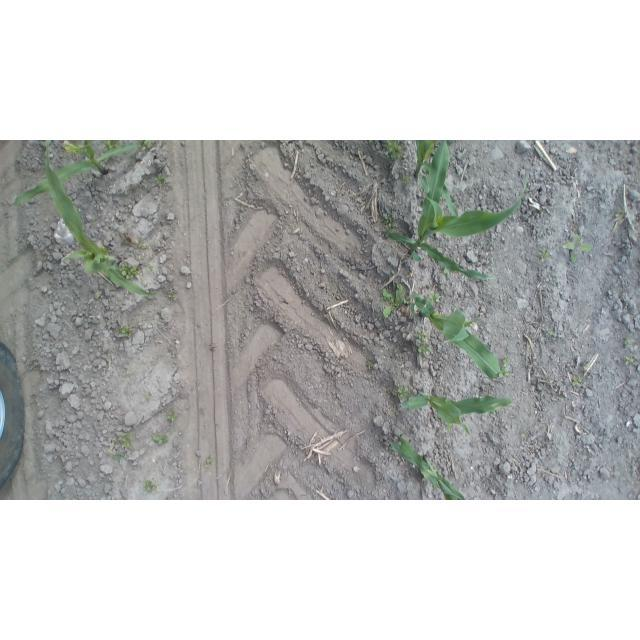Maize: (383, 140, 530, 282), (43, 141, 163, 300), (408, 290, 500, 380), (13, 140, 140, 200), (400, 384, 513, 439), (392, 430, 469, 500), (414, 141, 459, 216)
Weeds: (380, 283, 410, 318), (564, 234, 593, 263), (386, 140, 405, 160), (119, 261, 140, 279), (107, 449, 125, 464), (384, 214, 397, 233), (118, 433, 134, 448), (395, 386, 410, 400), (153, 432, 170, 444), (416, 343, 431, 356), (115, 326, 131, 338), (135, 141, 152, 152), (539, 250, 552, 263), (154, 173, 167, 186), (143, 481, 157, 492), (499, 365, 510, 378), (430, 291, 441, 304), (104, 140, 118, 150), (573, 375, 584, 387), (168, 412, 179, 422), (401, 175, 411, 186), (416, 332, 429, 340), (626, 354, 635, 365), (137, 240, 147, 249), (616, 209, 625, 218), (204, 459, 212, 468), (168, 291, 177, 299), (546, 328, 554, 336), (444, 268, 451, 277), (501, 356, 509, 363), (146, 392, 153, 400), (147, 264, 153, 273), (624, 340, 634, 345), (447, 423, 453, 430), (447, 140, 455, 144), (583, 364, 589, 369), (367, 363, 371, 370), (437, 413, 441, 419), (521, 433, 525, 437), (369, 141, 374, 144)
